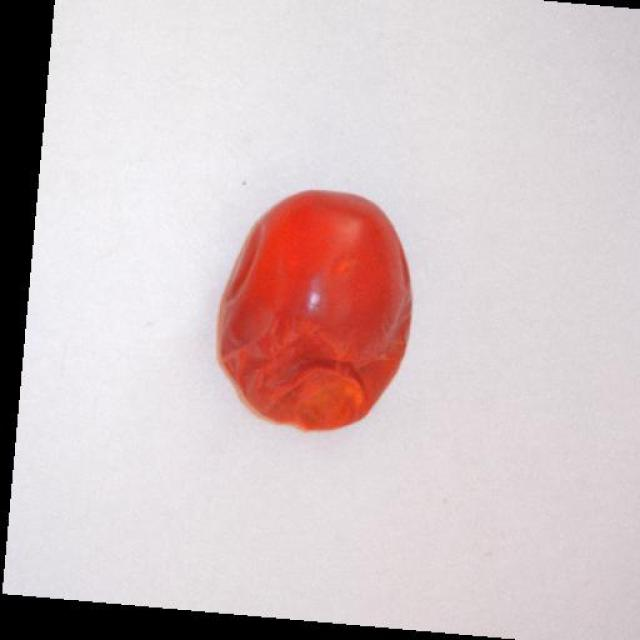Stale_tomato: (215, 178, 373, 459)
